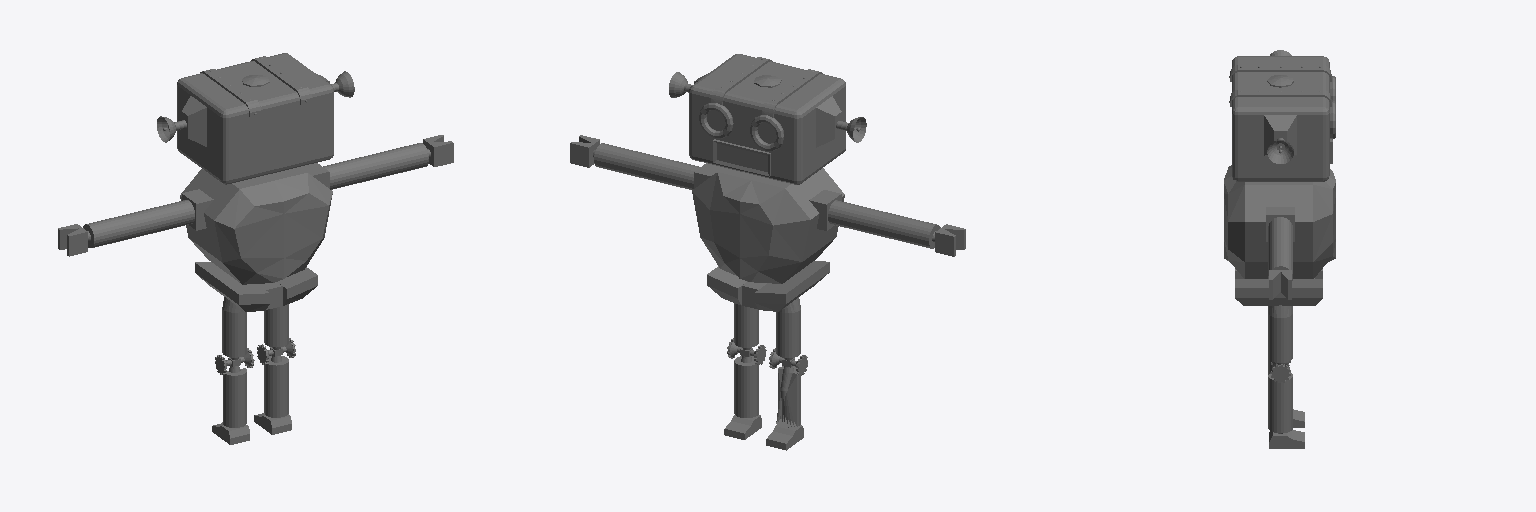
Rendered from Tanis_Robot_01_Scaled.obj.
3 renders of one model, left to right at view 1: azimuth 30°, elevation 25°; view 2: azimuth 150°, elevation 25°; view 3: azimuth 270°, elevation 25°, orthographic.
Visible parts, largest first — view 1: Base.obj; view 2: Base.obj; view 3: Base.obj.
Part boxes in pixels (bbox=[...]): Base.obj: bbox=[58, 53, 453, 444]; Base.obj: bbox=[570, 54, 965, 450]; Base.obj: bbox=[1224, 50, 1335, 448].
Bounding box in the file's own units: 4.08 × 3.6 × 1.04.